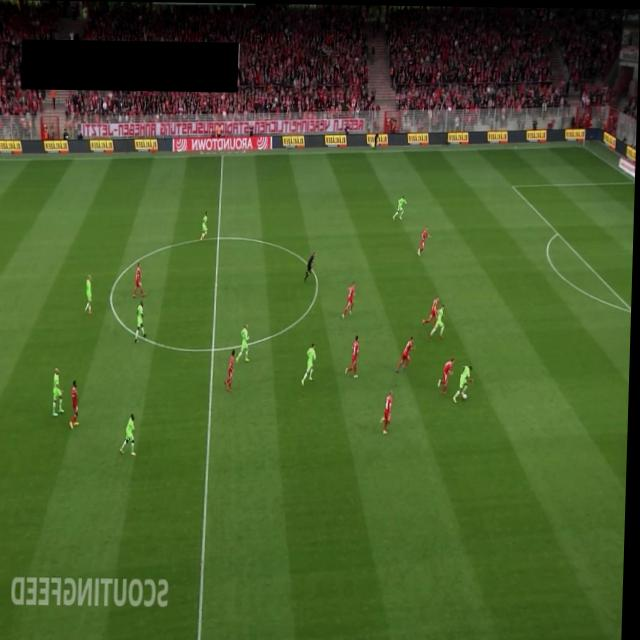player: (454, 363, 476, 402), (423, 296, 442, 339), (122, 412, 139, 456), (398, 333, 417, 371), (303, 341, 318, 386), (54, 366, 67, 416), (431, 301, 448, 339), (238, 322, 253, 362), (349, 333, 362, 377), (442, 355, 457, 393), (344, 280, 359, 318), (134, 262, 149, 298), (384, 389, 396, 433), (137, 300, 149, 344), (226, 348, 238, 391), (72, 379, 82, 430), (418, 225, 433, 255), (86, 274, 96, 314), (394, 194, 409, 220), (201, 210, 210, 241)
referee: (306, 250, 318, 281), (372, 129, 381, 149)
